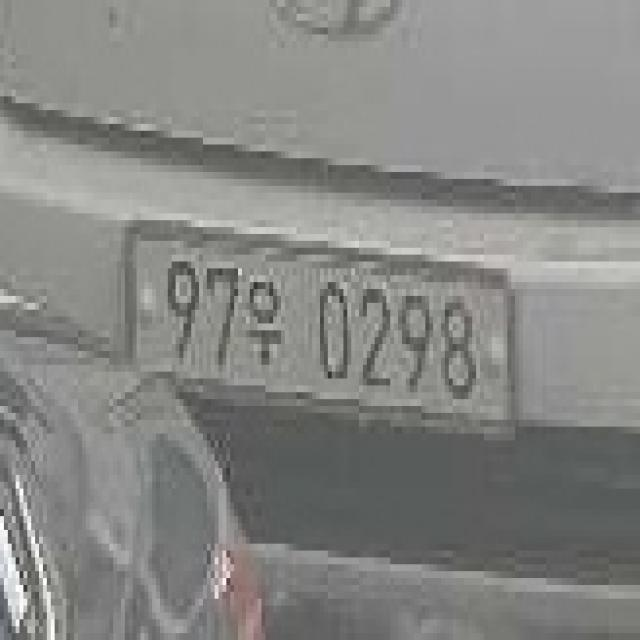0: (314, 271, 356, 394)
2: (358, 276, 396, 400)
7: (206, 253, 240, 379)
8: (438, 285, 482, 410)
9: (161, 251, 201, 372), (398, 282, 434, 402)
license_plate: (122, 219, 517, 450)
u: (242, 265, 288, 381)
